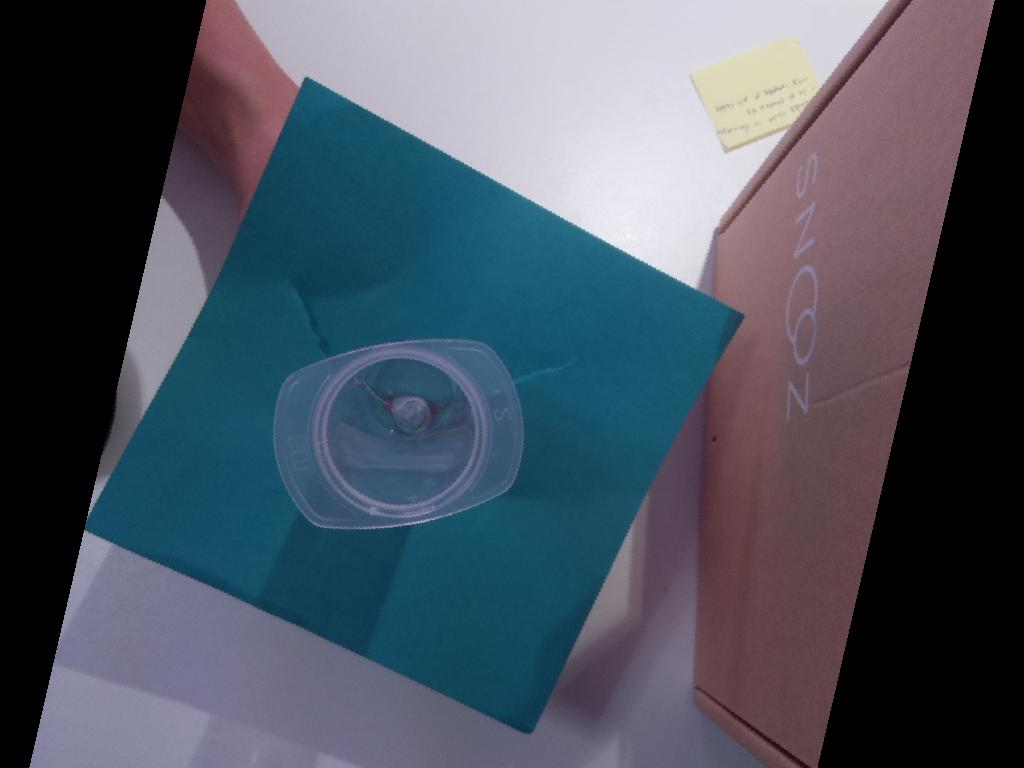clean: (270, 339, 525, 528)
